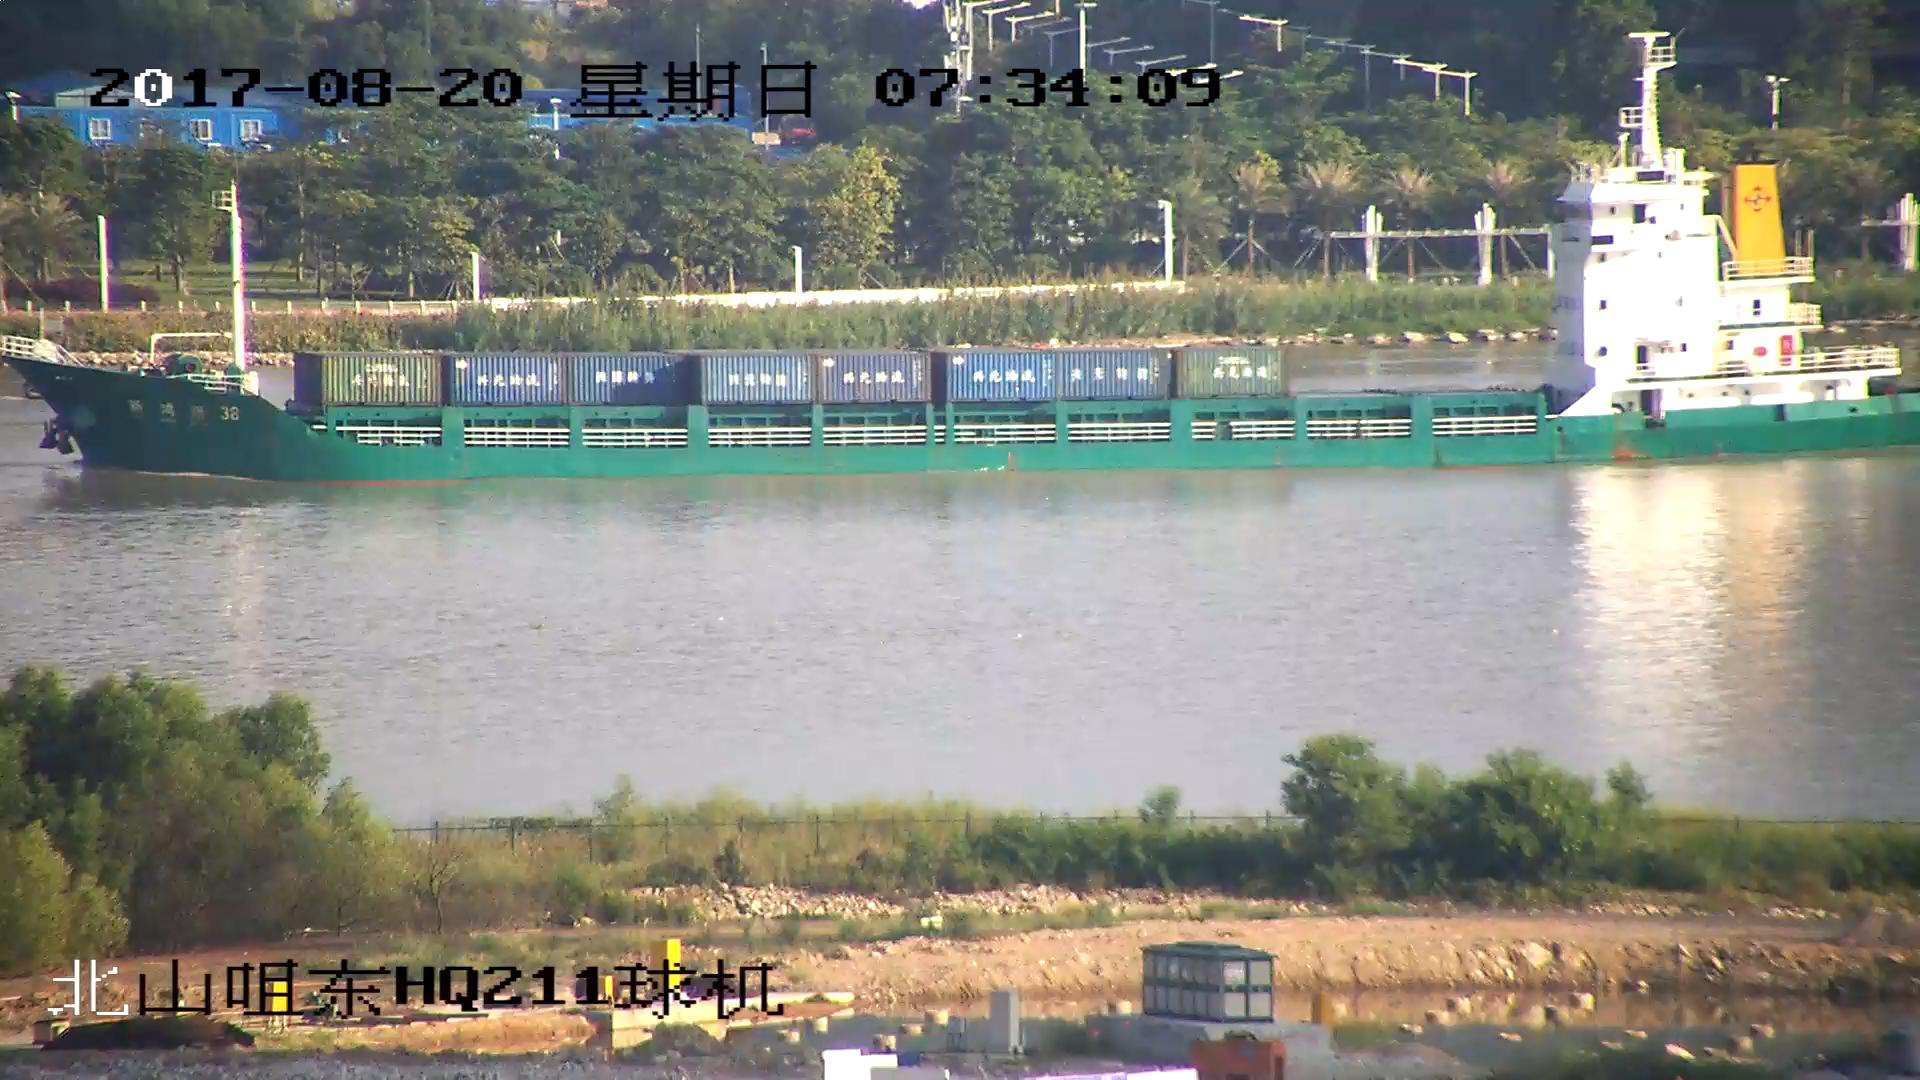general cargo ship: (1, 105, 1919, 481)
